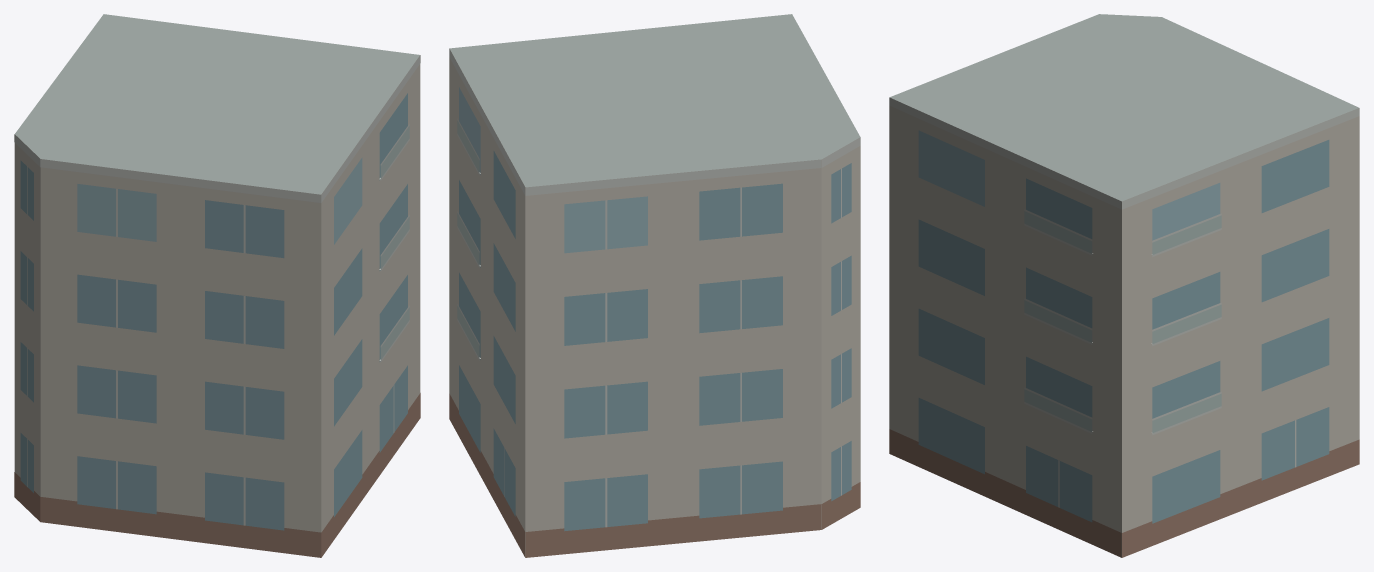
The model's file is survey-upis-32872380.glb.
The picture shows the model from 3 angles, left to right: view 1: azimuth 30°, elevation 25°; view 2: azimuth 150°, elevation 25°; view 3: azimuth 270°, elevation 25°; orthographic projection. The views are drawn at different scales.
Visible parts, largest first — view 1: survey-upis-32872380.tmp; view 2: survey-upis-32872380.tmp; view 3: survey-upis-32872380.tmp.
Part boxes in pixels (left/top/right/bottom): survey-upis-32872380.tmp: left=14, top=14, right=420, bottom=557; survey-upis-32872380.tmp: left=449, top=14, right=860, bottom=557; survey-upis-32872380.tmp: left=889, top=14, right=1359, bottom=557.
Bounding box in the file's own units: 11.97 × 10.6 × 12.68.
